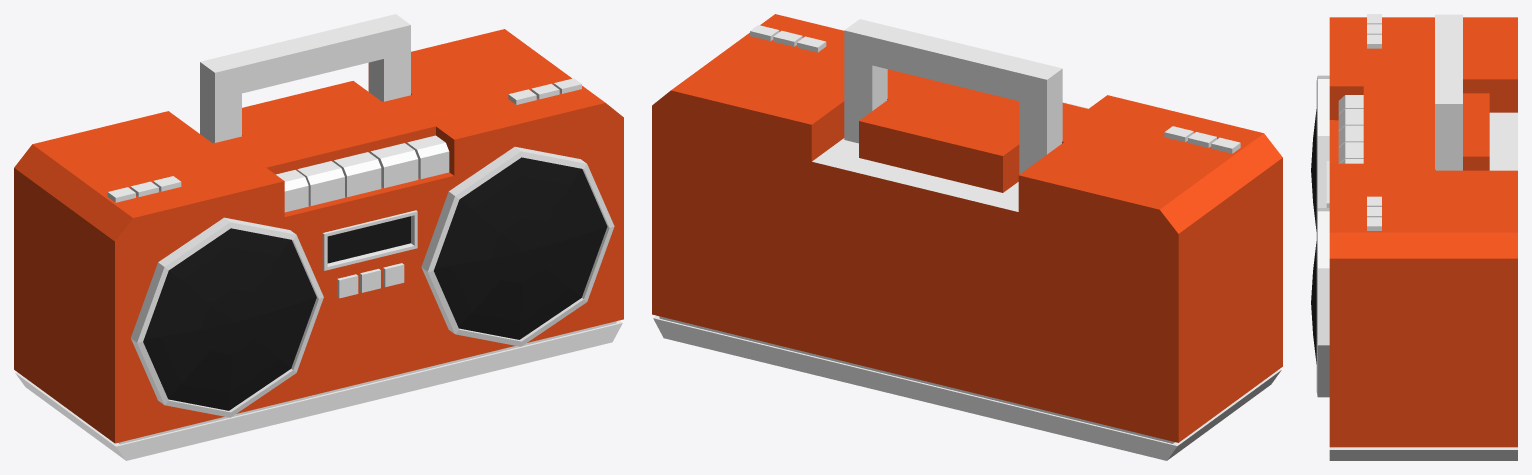
File: orange.glb
The picture shows the model from 3 angles, left to right: view 1: azimuth 30°, elevation 25°; view 2: azimuth 150°, elevation 25°; view 3: azimuth 270°, elevation 25°; orthographic projection. The views are drawn at different scales.
Parts seen in each view (by area): view 1: Boombox_Circle.002; view 2: Boombox_Circle.002; view 3: Boombox_Circle.002.
Part boxes in pixels (x1=…): Boombox_Circle.002: x1=14, y1=14, x2=623, y2=460; Boombox_Circle.002: x1=652, y1=14, x2=1282, y2=460; Boombox_Circle.002: x1=1311, y1=14, x2=1517, y2=460.
Size of the model in its own units: 9.95 by 5.82 by 3.75.
